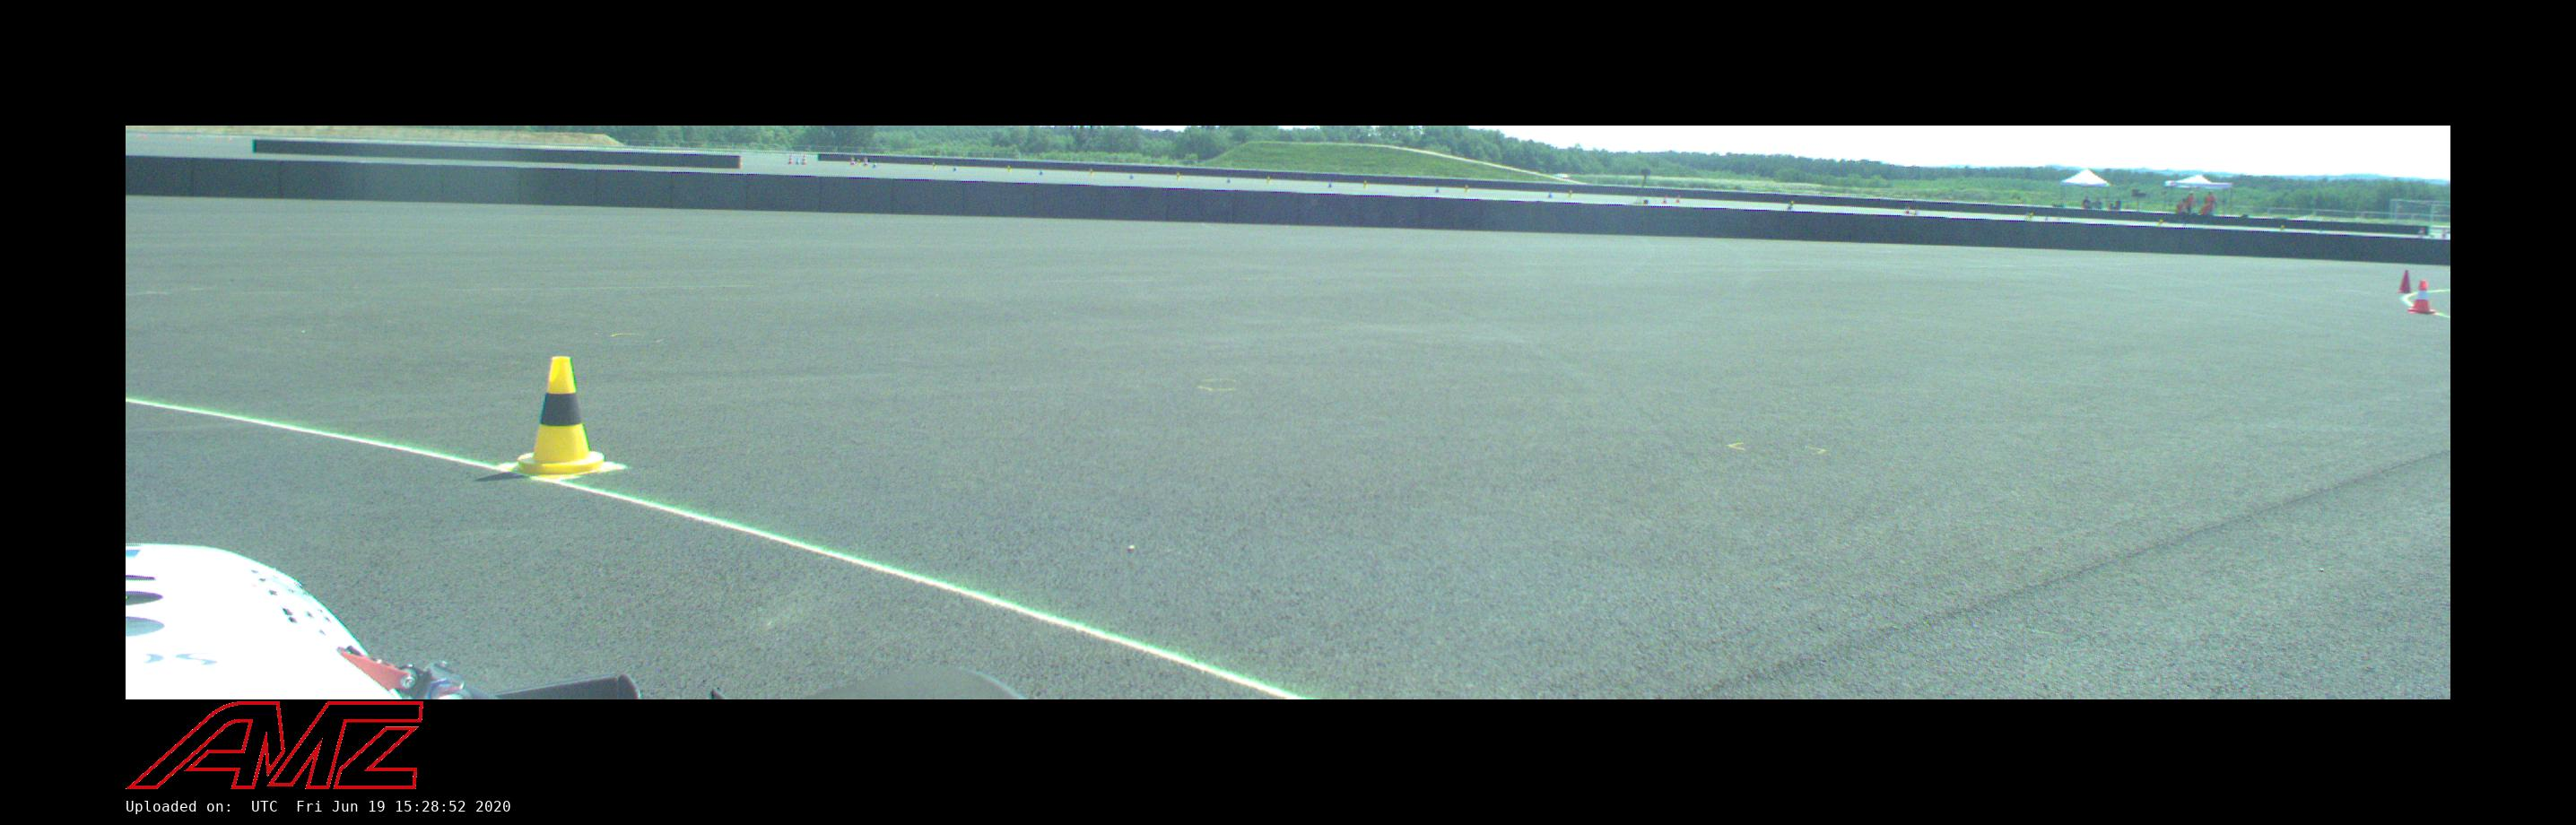orange_cone: (2408, 281, 2436, 314)
yellow_cone: (503, 357, 618, 478)
